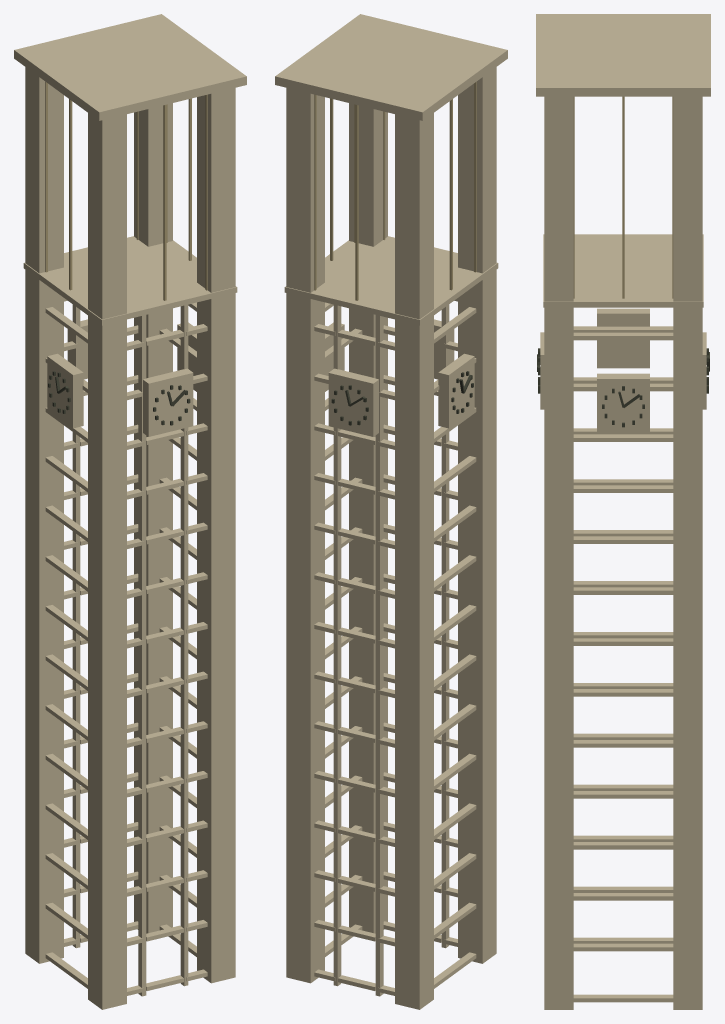
File: ucr-bell-tower-far.glb
3 views of the same model, side by side, from view 1: azimuth 30°, elevation 25°; view 2: azimuth 150°, elevation 25°; view 3: azimuth 270°, elevation 25° (orthographic). The views are drawn at different scales.
Visible parts, largest first — view 1: ucr-bell-tower-0-stone, ucr-bell-tower-0-metal, ucr-bell-tower-0-dark; view 2: ucr-bell-tower-0-stone, ucr-bell-tower-0-metal, ucr-bell-tower-0-dark; view 3: ucr-bell-tower-0-stone, ucr-bell-tower-0-metal, ucr-bell-tower-0-dark.
Part boxes in pixels (left/top/right/bottom): ucr-bell-tower-0-stone: left=14, top=14, right=246, bottom=1009; ucr-bell-tower-0-metal: left=45, top=82, right=207, bottom=300; ucr-bell-tower-0-dark: left=48, top=371, right=190, bottom=425; ucr-bell-tower-0-stone: left=275, top=14, right=507, bottom=1009; ucr-bell-tower-0-metal: left=314, top=82, right=476, bottom=300; ucr-bell-tower-0-dark: left=331, top=371, right=473, bottom=425; ucr-bell-tower-0-stone: left=536, top=14, right=710, bottom=1009; ucr-bell-tower-0-metal: left=573, top=96, right=673, bottom=298; ucr-bell-tower-0-dark: left=537, top=348, right=709, bottom=427.
Size of the model in its own units: 8.4 by 49.07 by 8.4.
